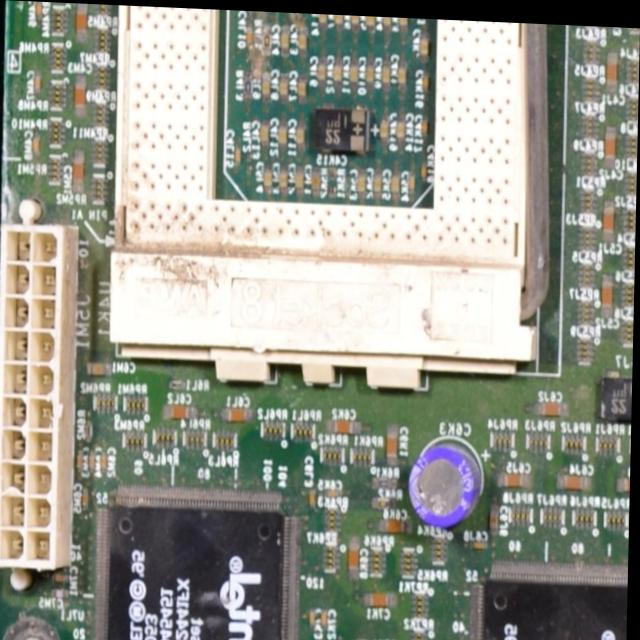capacitor: (555, 469, 596, 487), (600, 269, 615, 314), (533, 396, 572, 413), (72, 75, 87, 117), (349, 531, 362, 577), (606, 44, 619, 90), (74, 3, 88, 44), (73, 150, 86, 194), (387, 420, 401, 459), (366, 588, 398, 605), (327, 416, 365, 430), (164, 402, 197, 418), (502, 467, 534, 483), (225, 405, 255, 421), (380, 516, 413, 530), (605, 119, 616, 159), (605, 194, 615, 235), (419, 25, 430, 59), (87, 361, 113, 375), (381, 112, 391, 146), (312, 166, 323, 195), (373, 166, 383, 197), (391, 169, 401, 199), (350, 55, 360, 83), (279, 164, 289, 192), (261, 70, 270, 101), (358, 166, 367, 197), (298, 72, 307, 102), (397, 113, 407, 140), (295, 164, 304, 194), (260, 120, 271, 144), (298, 24, 307, 53), (472, 535, 492, 548), (278, 120, 288, 146), (366, 58, 375, 85), (33, 132, 42, 159), (317, 56, 327, 80), (398, 57, 407, 83), (34, 71, 43, 97), (296, 122, 305, 148), (264, 165, 273, 191), (279, 71, 287, 100), (83, 486, 92, 511), (618, 471, 632, 487), (383, 55, 391, 83), (335, 56, 343, 83), (281, 26, 289, 52), (420, 111, 428, 136), (247, 24, 254, 50), (310, 486, 319, 506), (310, 605, 318, 626), (79, 448, 85, 475), (235, 144, 242, 167), (56, 573, 71, 583), (324, 606, 331, 626), (91, 449, 97, 472), (368, 13, 378, 26), (335, 12, 345, 25), (421, 159, 427, 180), (104, 450, 109, 474), (331, 485, 343, 494), (351, 12, 359, 24), (383, 14, 392, 24), (37, 1, 42, 19), (636, 33, 640, 42)
